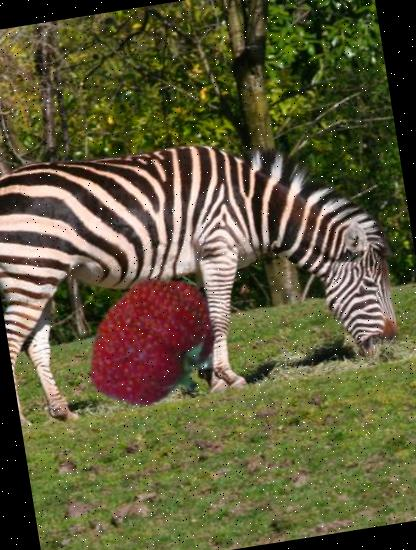Strawberry: (72, 262, 239, 429)
